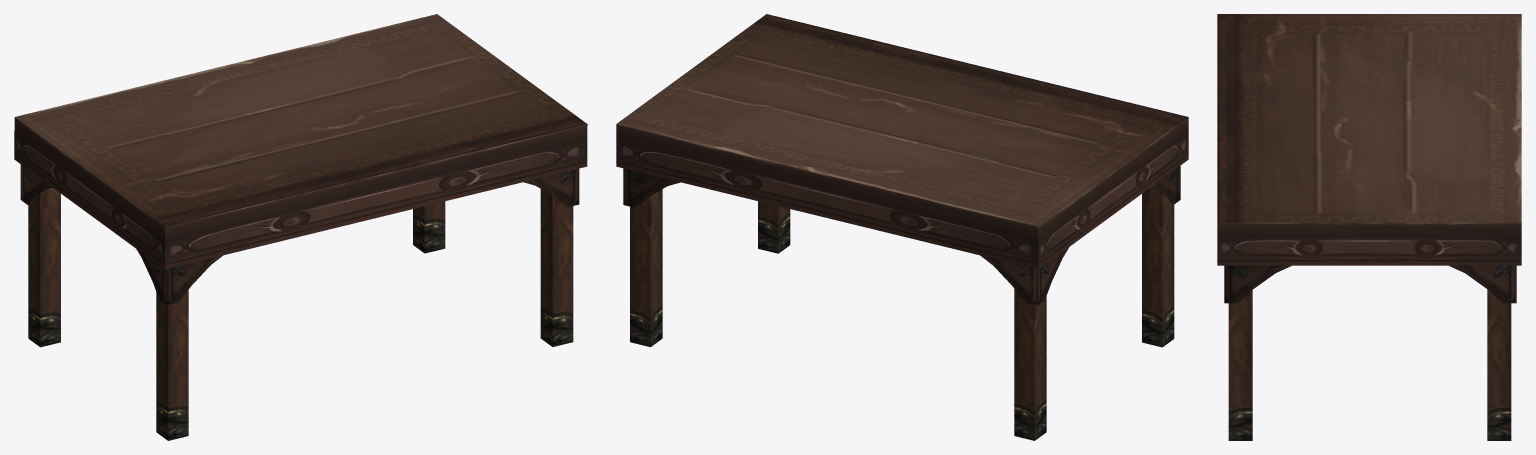
File: furniture_k07.FBX
3 renders of one model, left to right at view 1: azimuth 30°, elevation 25°; view 2: azimuth 150°, elevation 25°; view 3: azimuth 270°, elevation 25°, orthographic.
Visible parts, largest first — view 1: furniture_k07; view 2: furniture_k07; view 3: furniture_k07.
Part boxes in pixels (bbox=[...]): furniture_k07: bbox=[14, 14, 587, 440]; furniture_k07: bbox=[616, 14, 1188, 440]; furniture_k07: bbox=[1217, 14, 1521, 440].
Bounding box in the file's own units: 1.89 × 0.94 × 1.17.
1 material, 1 textured.
